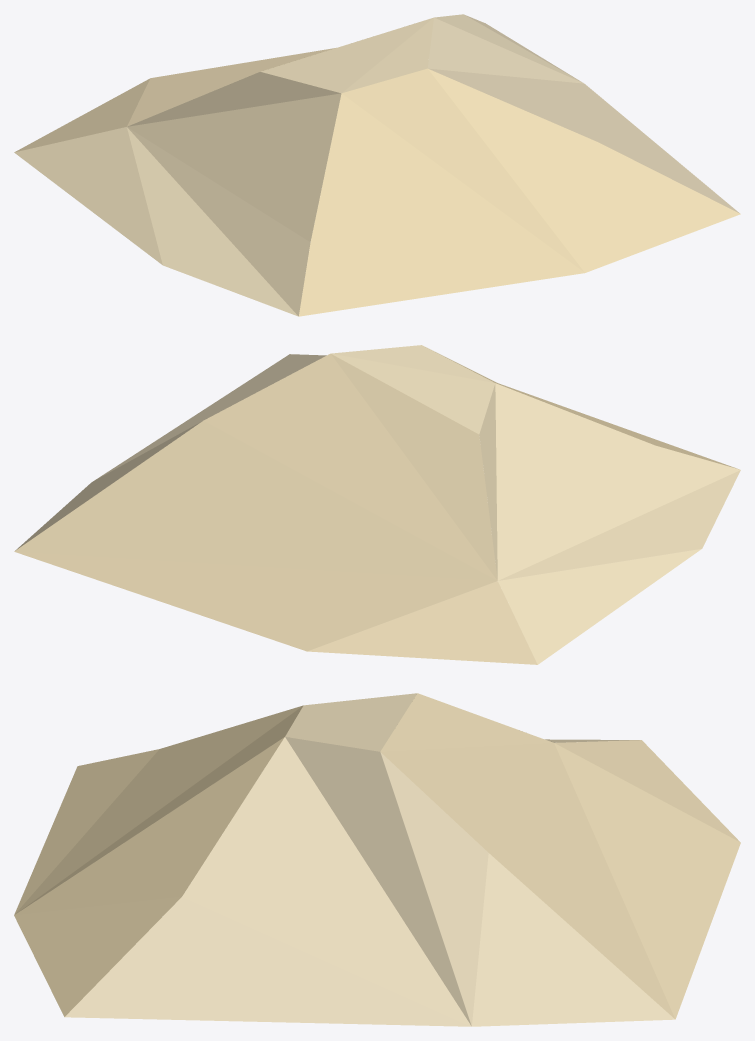
Rendered from pile1.glb.
3 renders of one model, top to bottom at view 1: azimuth 30°, elevation 25°; view 2: azimuth 150°, elevation 25°; view 3: azimuth 270°, elevation 25°, orthographic. The views are drawn at different scales.
Parts seen in each view (by area): view 1: pile1; view 2: pile1; view 3: pile1.
Boxes of the visible parts, x1,y1,x2,y2 form: pile1: (14, 14, 740, 316); pile1: (14, 345, 740, 664); pile1: (14, 693, 740, 1026).
Size of the model in its own units: 7.32 by 1.96 by 7.78.
